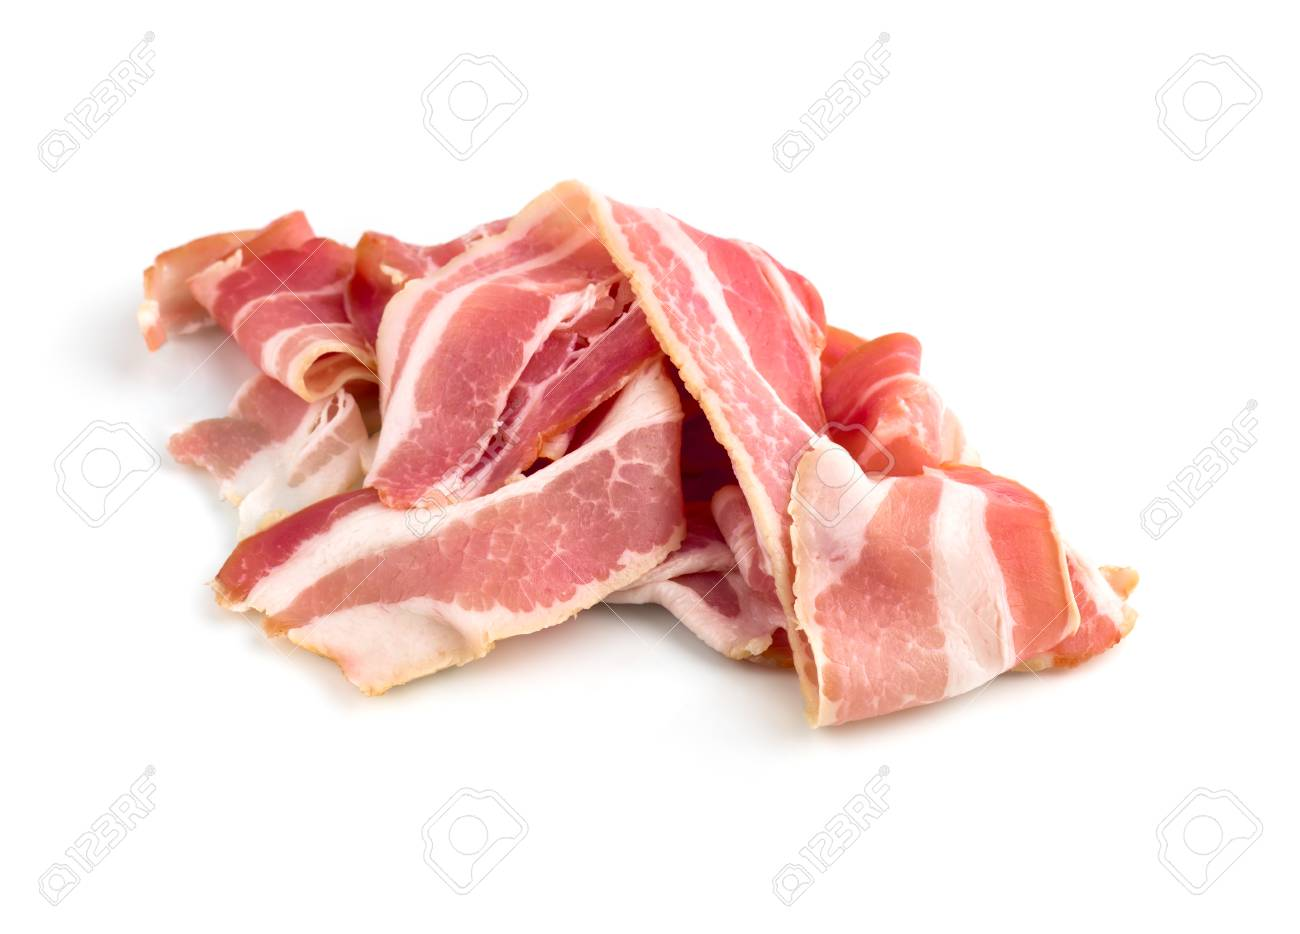bacon: (108, 181, 1171, 798)
